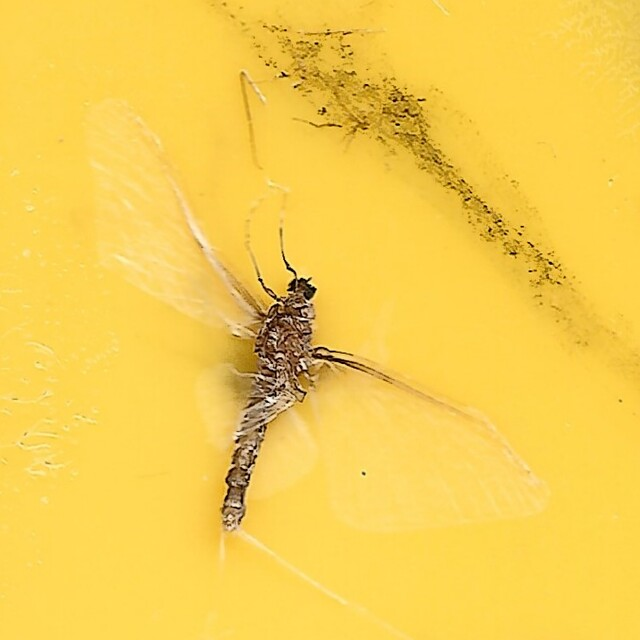Ephemeroptera: (85, 95, 555, 545)
